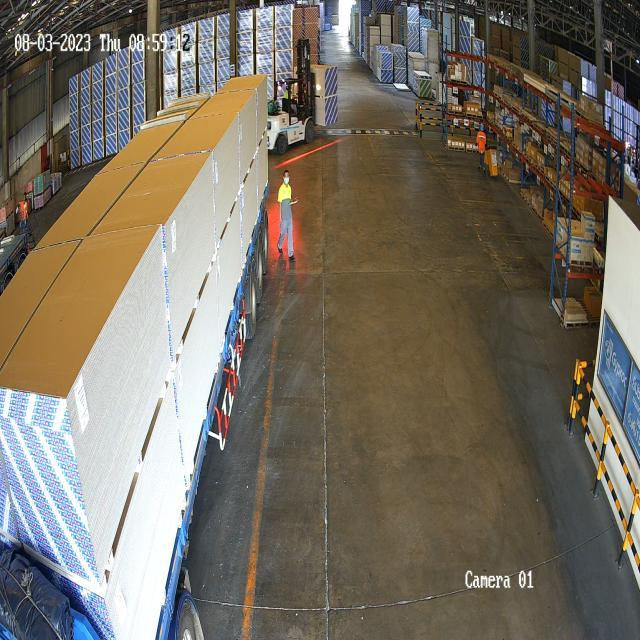forklift: (268, 80, 314, 158)
person: (276, 165, 296, 272), (476, 120, 488, 176)
